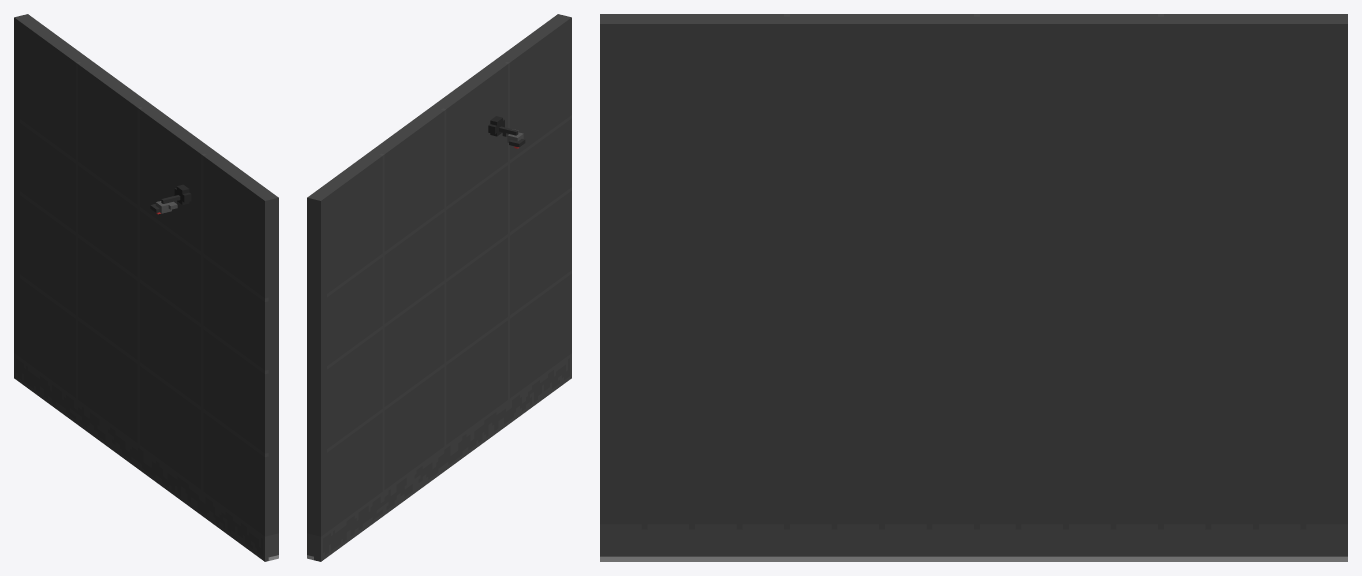
Rendered from wall02.obj.
The picture shows the model from 3 angles, left to right: view 1: azimuth 30°, elevation 25°; view 2: azimuth 150°, elevation 25°; view 3: azimuth 270°, elevation 25°; orthographic projection. The views are drawn at different scales.
Bounding box in the file's own units: 1.3 × 10 × 12.6.
Materials: 1 (1 with a texture image).
